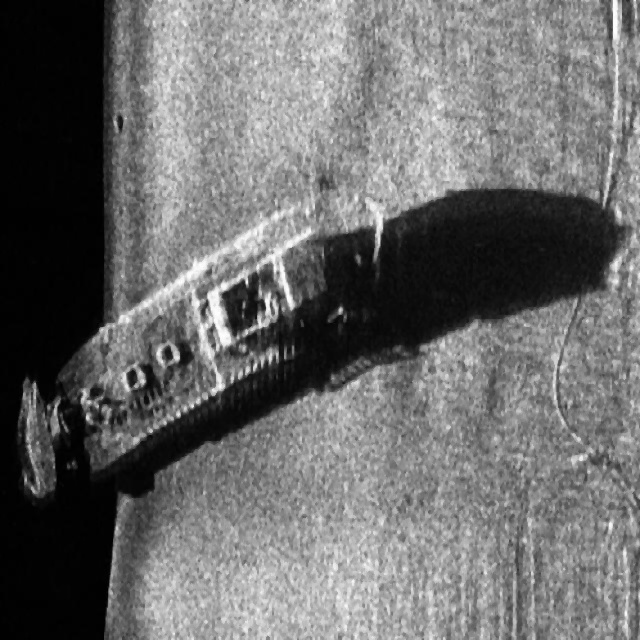Ship: (15, 168, 392, 530)
